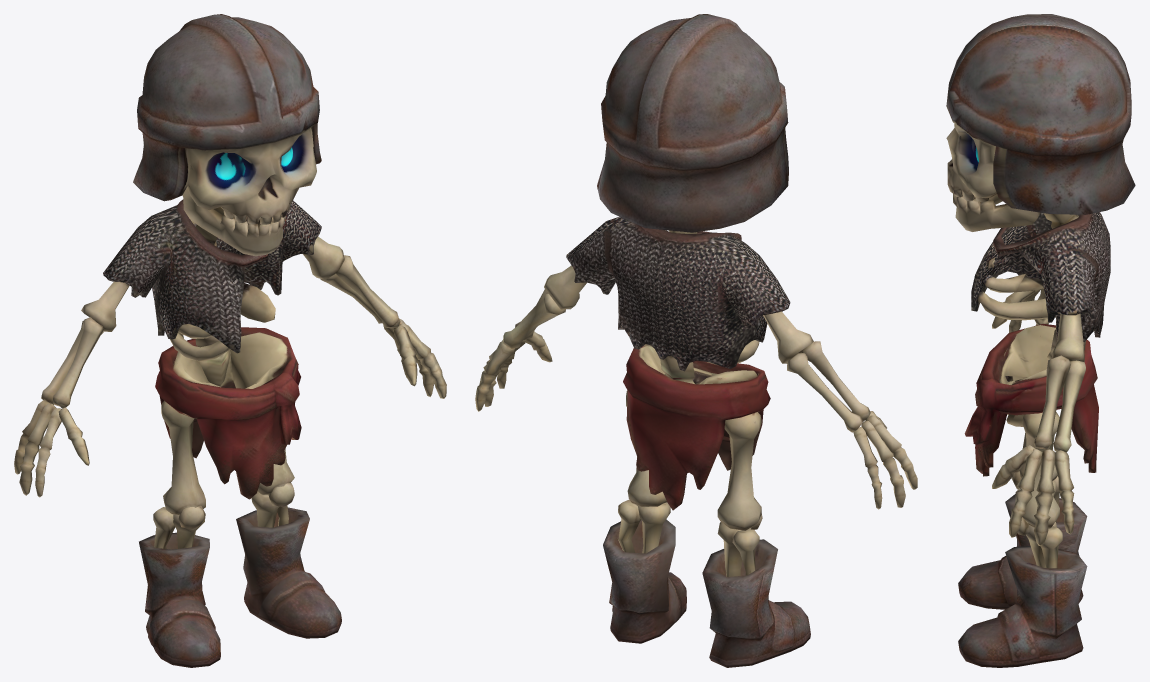
File: skeleton-normal.glb
3 renders of one model, left to right at view 1: azimuth 30°, elevation 25°; view 2: azimuth 150°, elevation 25°; view 3: azimuth 270°, elevation 25°, orthographic. The views are drawn at different scales.
Parts seen in each view (by area): view 1: tripo_node_9ac7547e-958f-4d49-902c-376736e31109; view 2: tripo_node_9ac7547e-958f-4d49-902c-376736e31109; view 3: tripo_node_9ac7547e-958f-4d49-902c-376736e31109.
Part boxes in pixels (box(x1,y1,x2,y2)): tripo_node_9ac7547e-958f-4d49-902c-376736e31109: box(14, 14, 446, 667); tripo_node_9ac7547e-958f-4d49-902c-376736e31109: box(475, 14, 917, 667); tripo_node_9ac7547e-958f-4d49-902c-376736e31109: box(946, 14, 1135, 667).
Size of the model in its own units: 0.7246 by 0.998 by 0.2832.
1 material, 1 textured.
